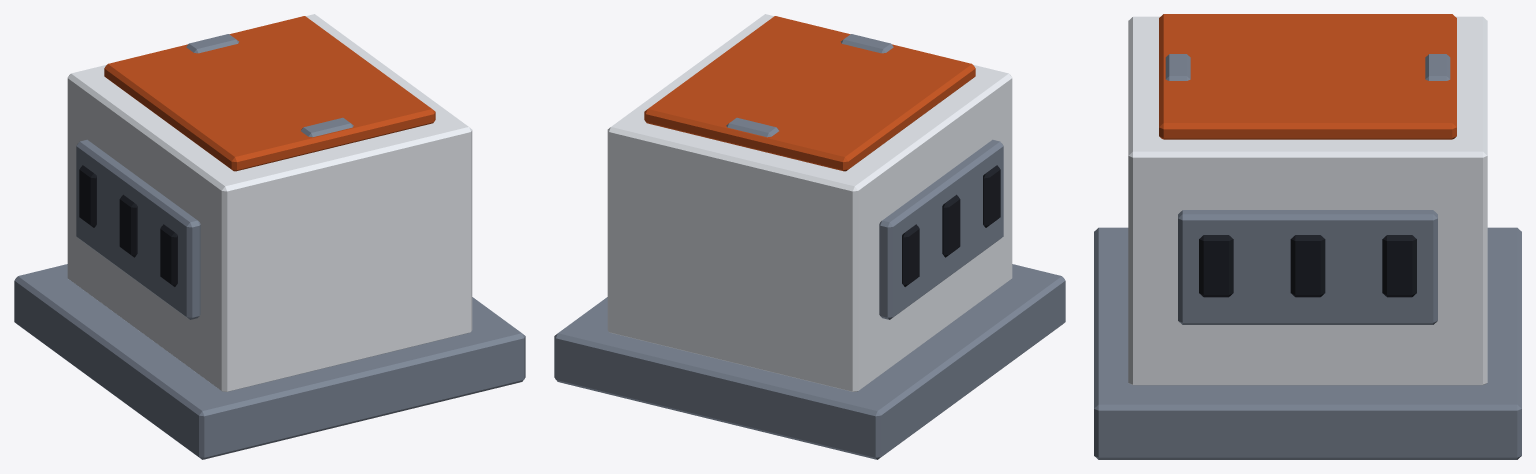
The model's file is Battery_Standard.glb.
The picture shows the model from 3 angles, left to right: view 1: azimuth 30°, elevation 25°; view 2: azimuth 150°, elevation 25°; view 3: azimuth 270°, elevation 25°; orthographic projection. The views are drawn at different scales.
Parts seen in each view (by area): view 1: Battery_Standard; view 2: Battery_Standard; view 3: Battery_Standard.
Boxes of the visible parts, box(x1,y1,x2,y2) form: Battery_Standard: box(14, 14, 525, 459); Battery_Standard: box(554, 14, 1065, 459); Battery_Standard: box(1094, 14, 1521, 459).
Size of the model in its own units: 0.56 by 0.4425 by 0.56.
